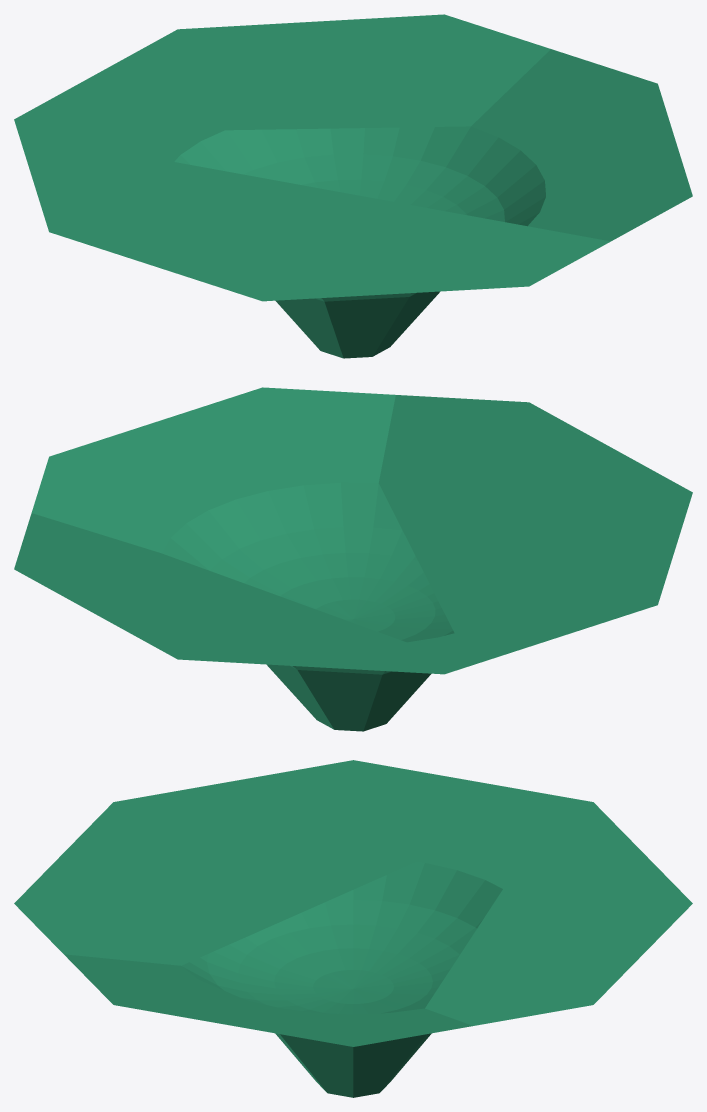
Rendered from flatplant2.fbx.
The picture shows the model from 3 angles, top to bottom: view 1: azimuth 30°, elevation 25°; view 2: azimuth 150°, elevation 25°; view 3: azimuth 270°, elevation 25°; orthographic projection. The views are drawn at different scales.
Parts seen in each view (by area): view 1: flatplant_LOD0; view 2: flatplant_LOD0; view 3: flatplant_LOD0.
Boxes of the visible parts, x1,y1,x2,y2 form: flatplant_LOD0: (14, 14, 692, 358); flatplant_LOD0: (14, 387, 692, 731); flatplant_LOD0: (14, 760, 692, 1097).
Size of what is drawn, in the model's own units: 627 by 182 by 627.
